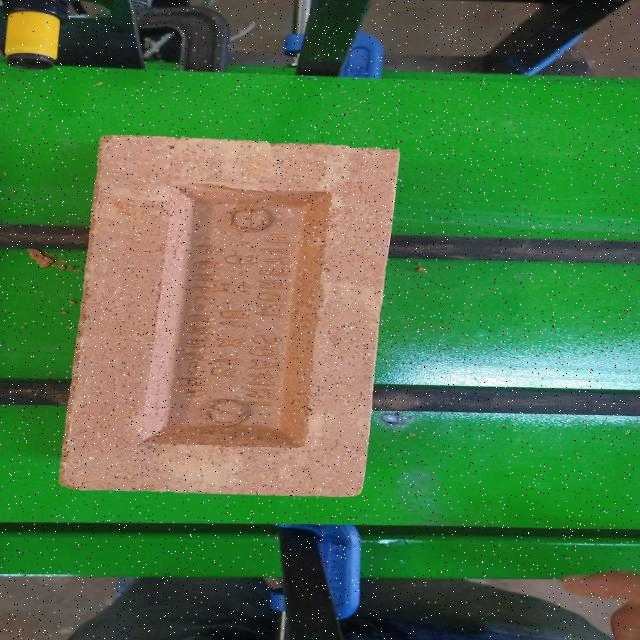bricks: (57, 135, 399, 497)
